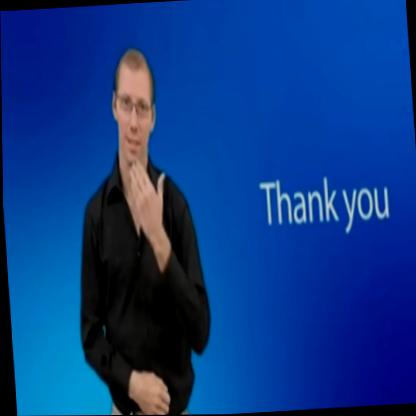ThankYou: (102, 23, 189, 290)
